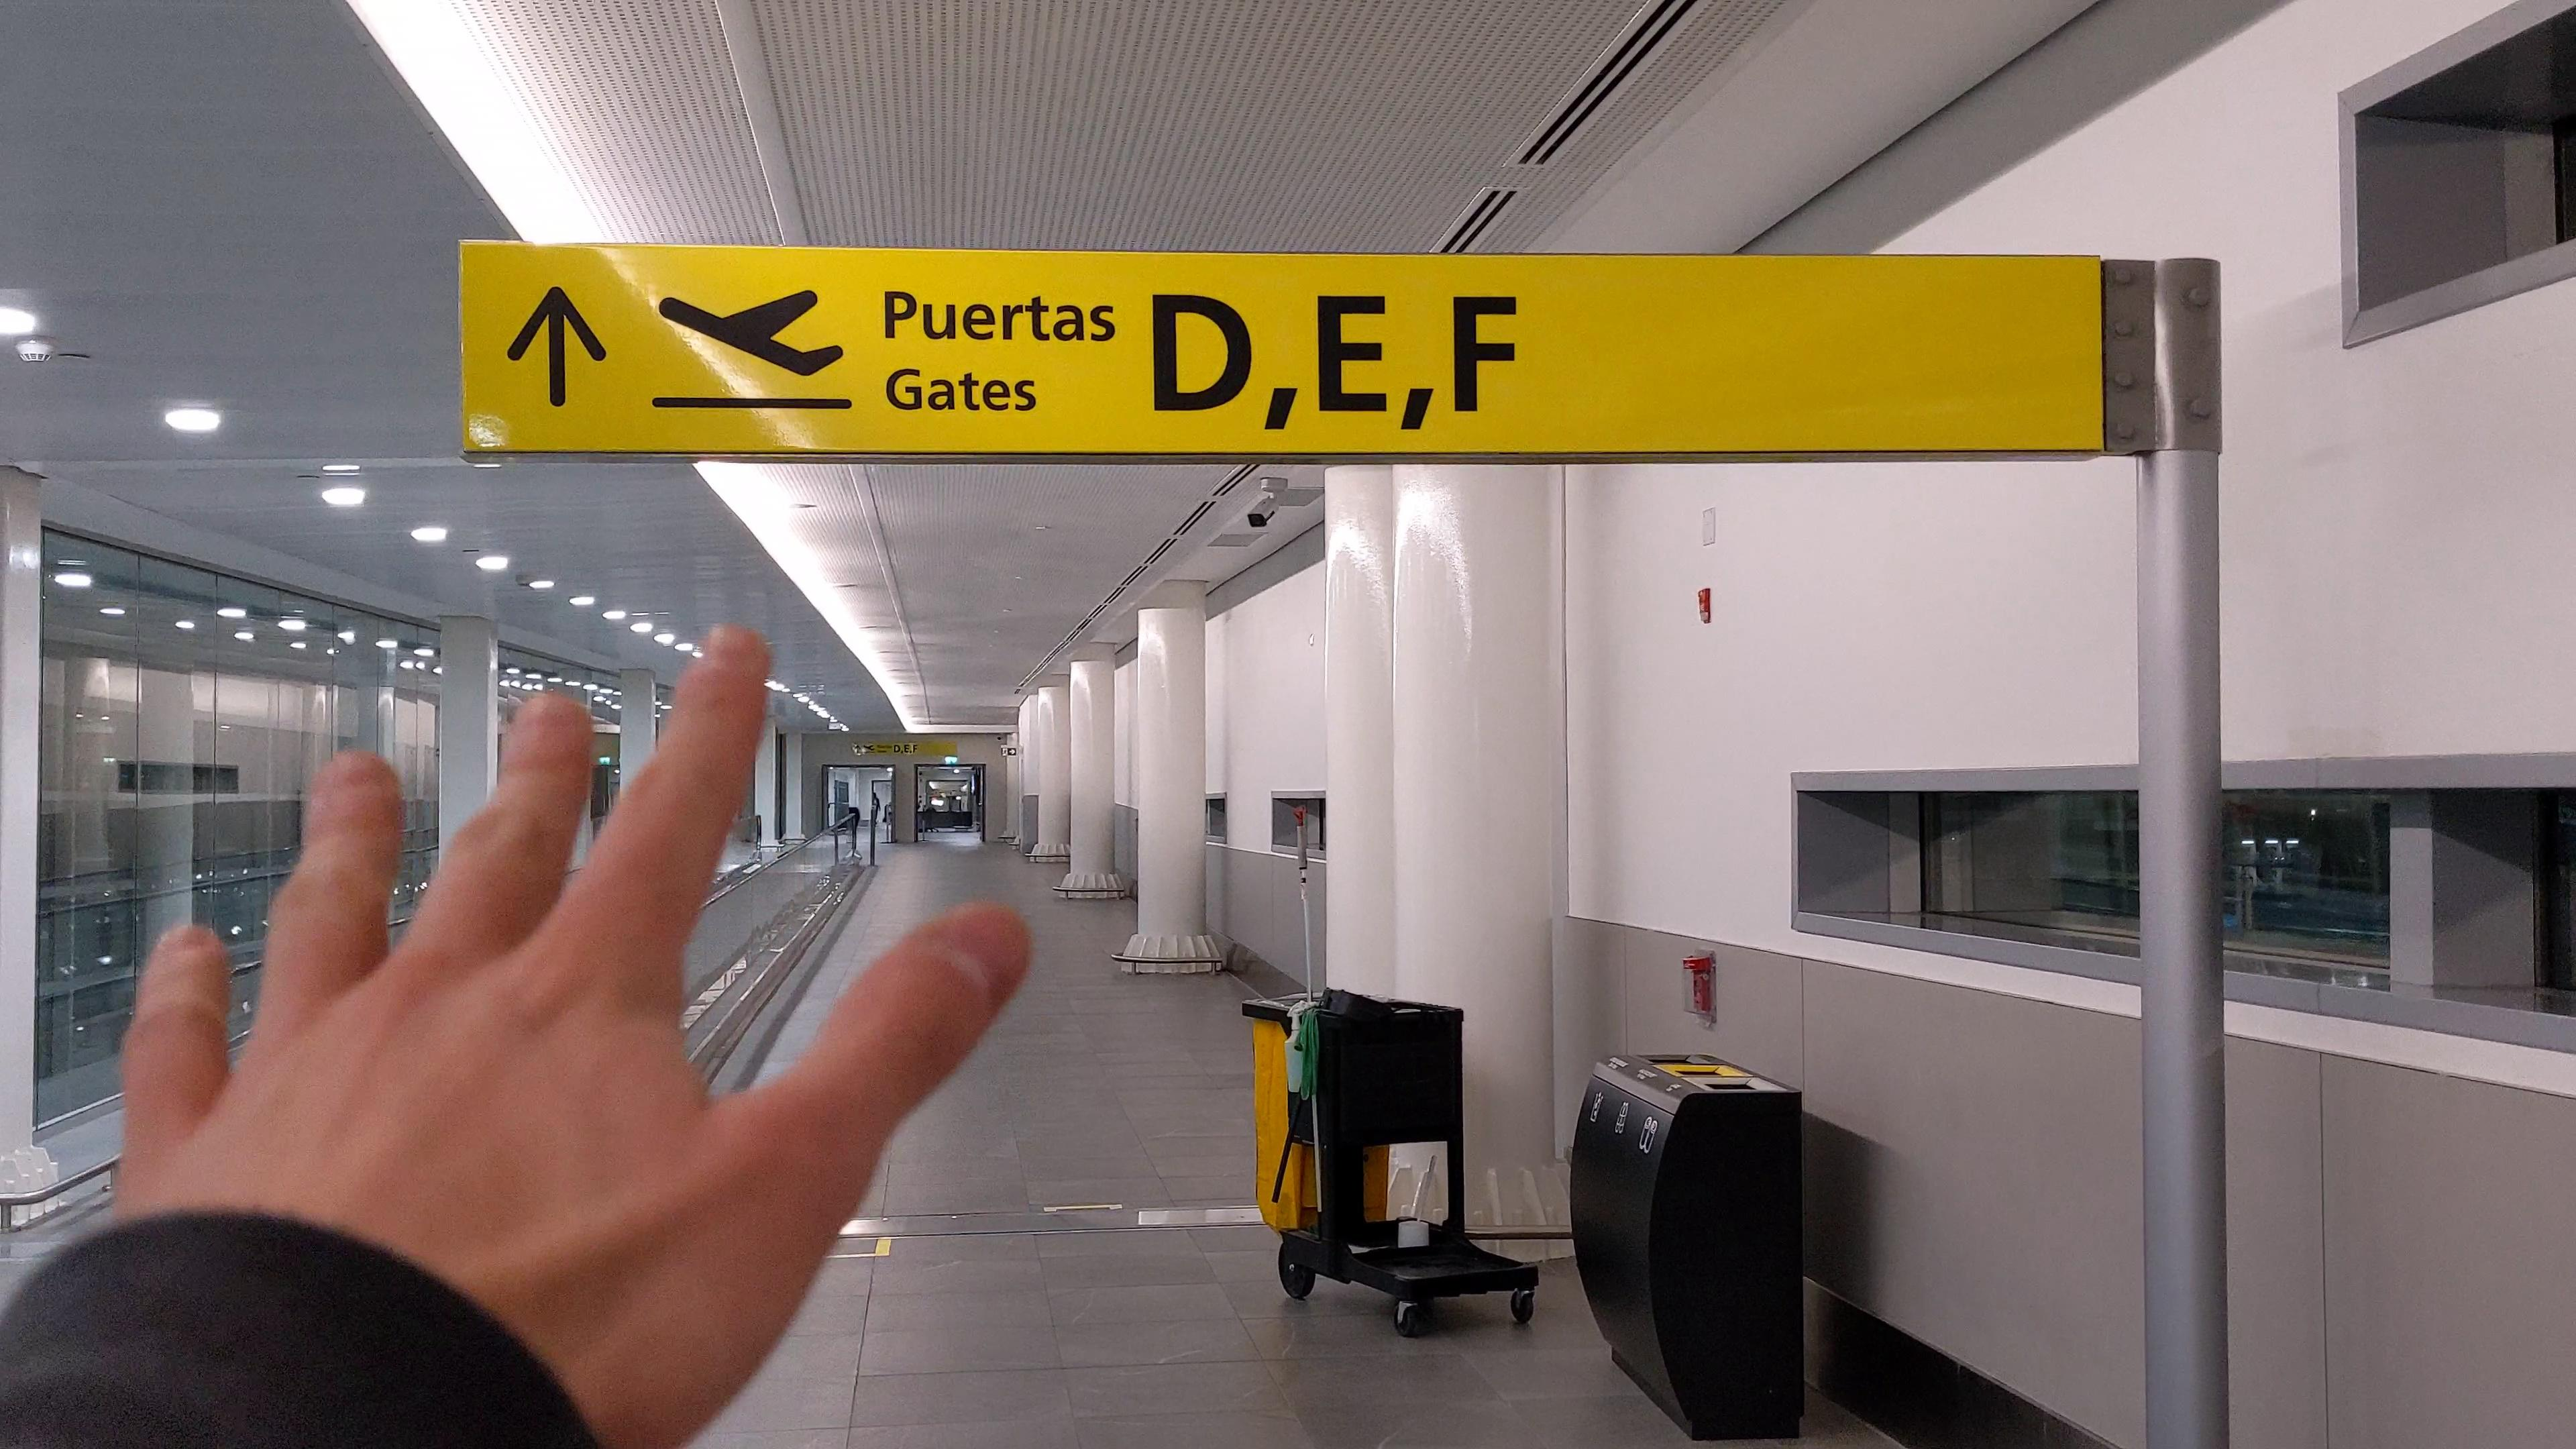airplane symbol: (651, 287, 847, 380), (863, 743, 876, 752)
thin up arrow: (501, 276, 632, 416)
